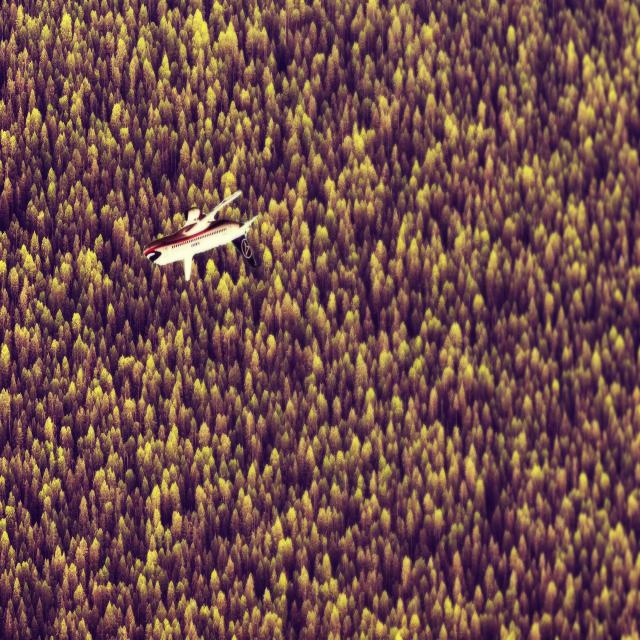airplane: (142, 189, 258, 282)
